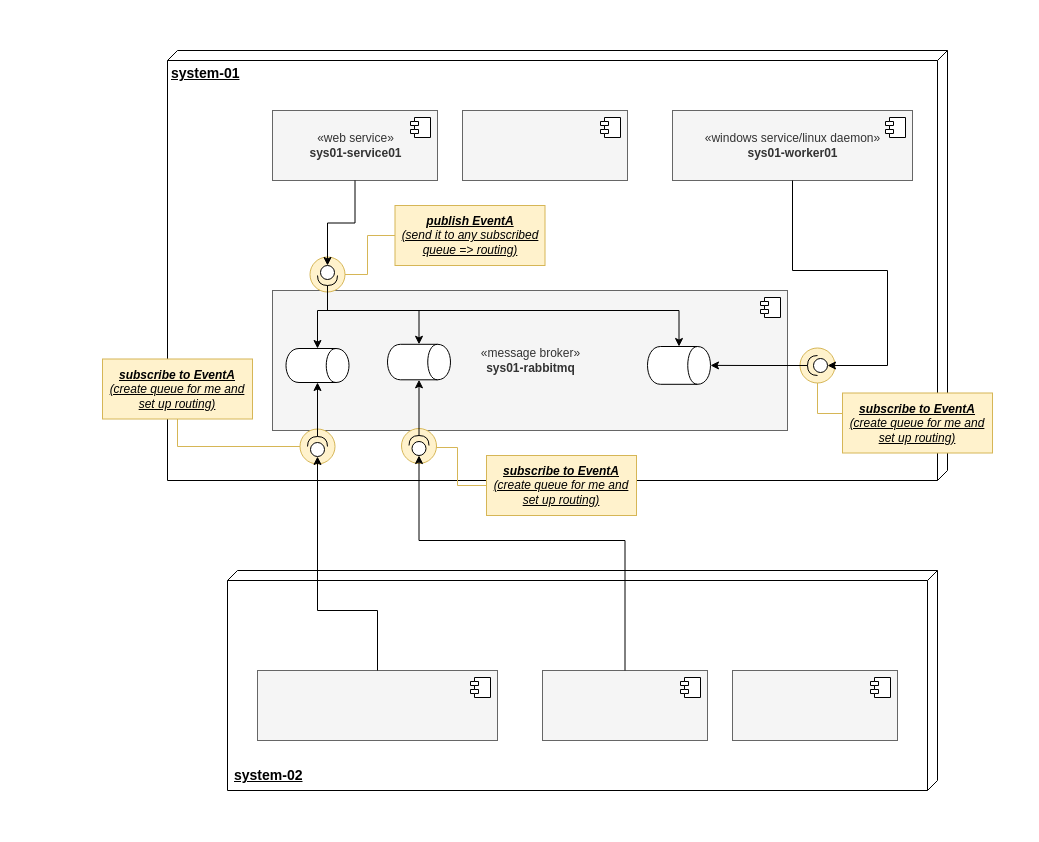
This 1039x842 diagram has some shape labels left out. Here are the shapes that lost their labels. From the top down, the centre of each, then its label:
At [545,145]: "«web service» sys01-service02".
At [377,705]: "«windows service/linux daemon» sys02-worker01".
At [625,705]: "«web service» sys02-service01".
At [815,705]: "«web service» sys02-service02".
